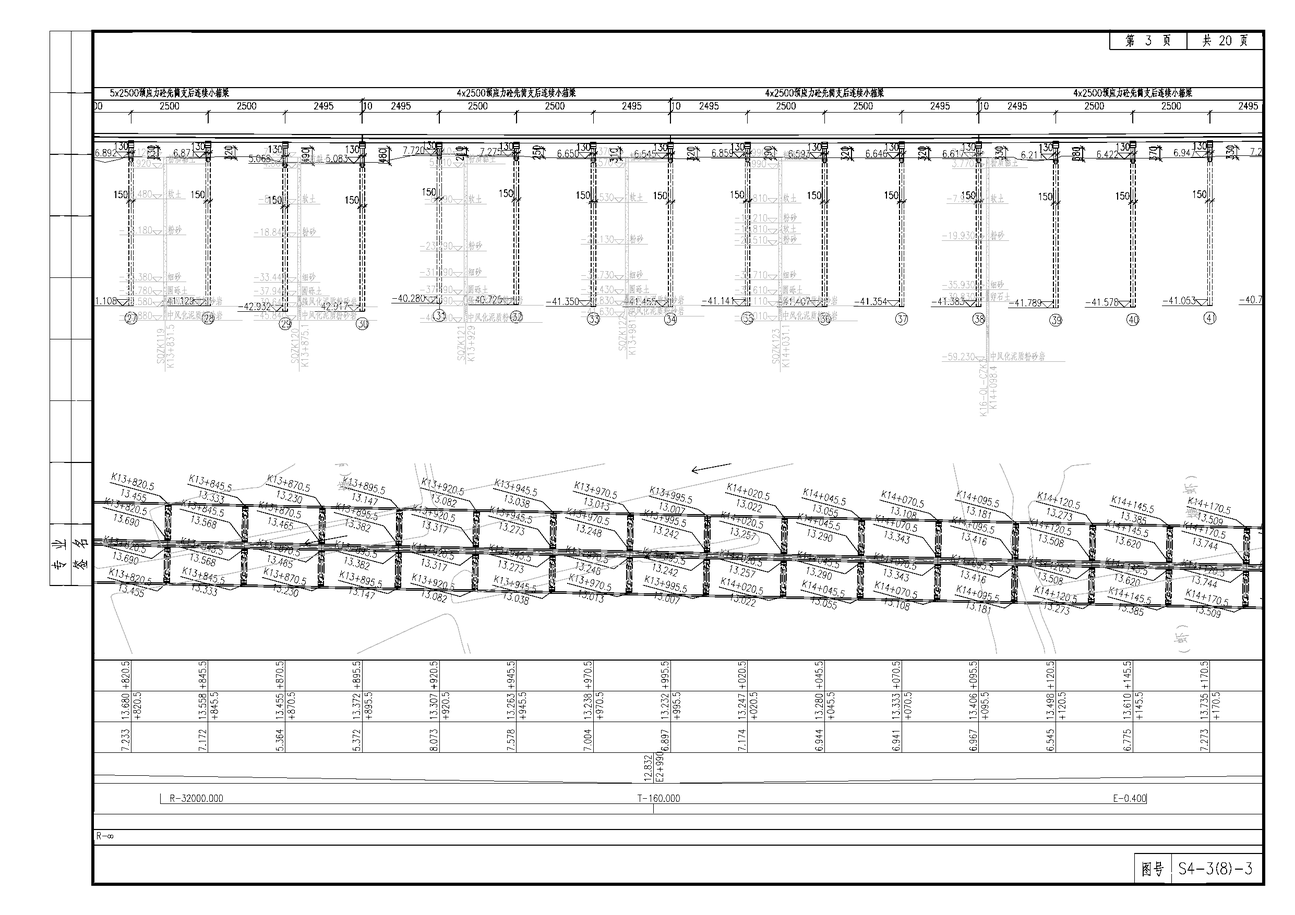A: (90, 72, 1270, 408)
